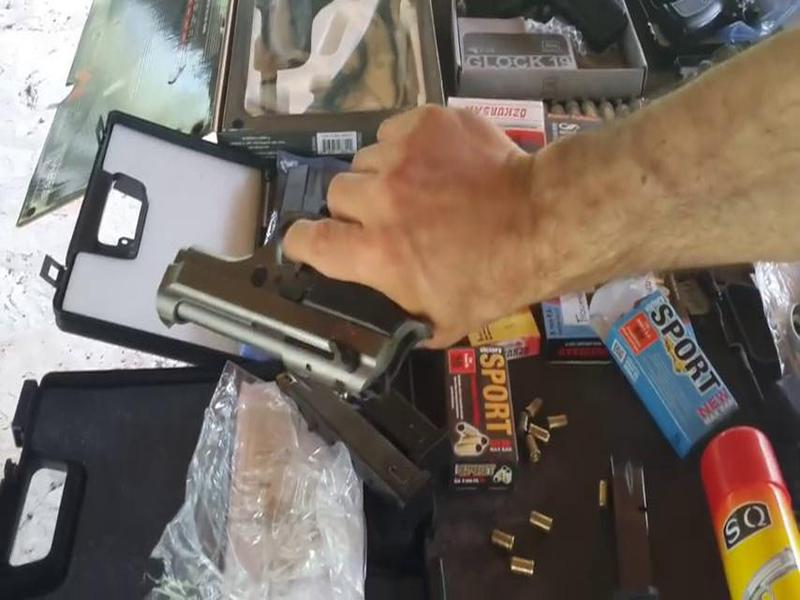Pistola: (147, 210, 442, 402)
